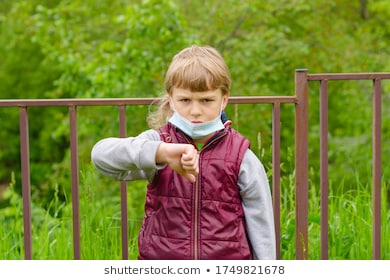mask_weared_incorrect: (172, 91, 223, 135)
